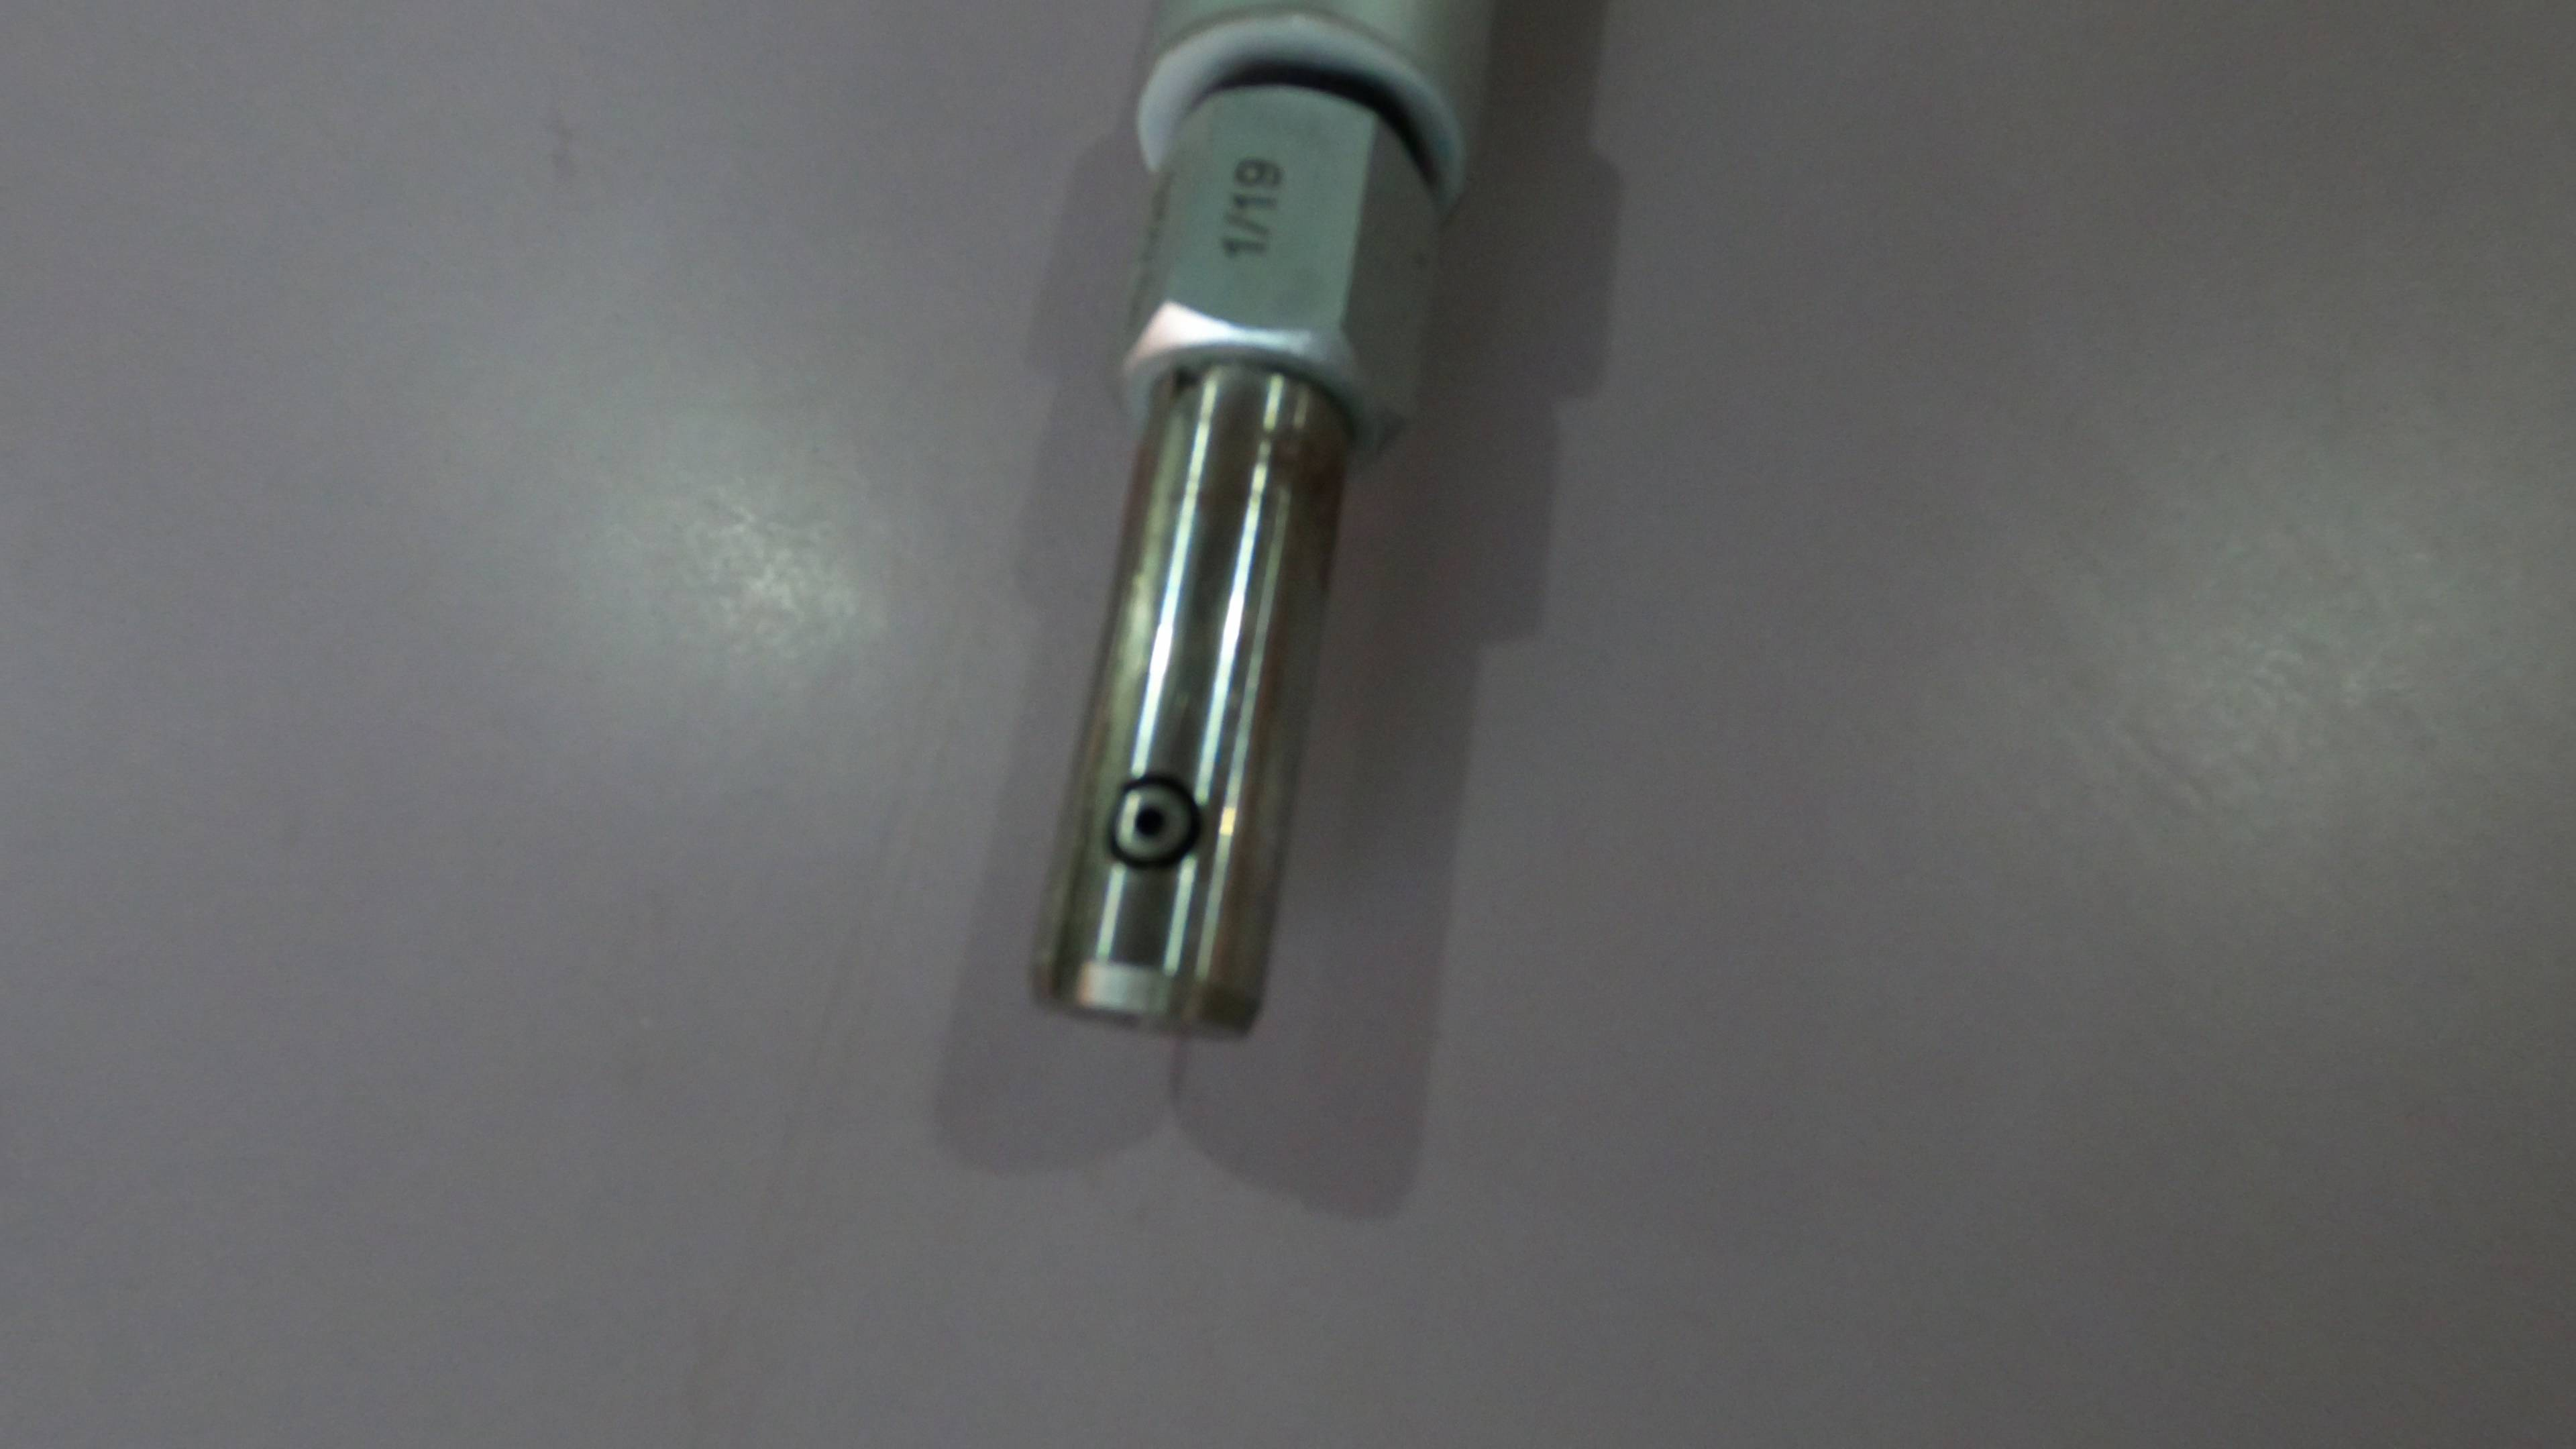air_gauge: (1024, 9, 1518, 1058)
